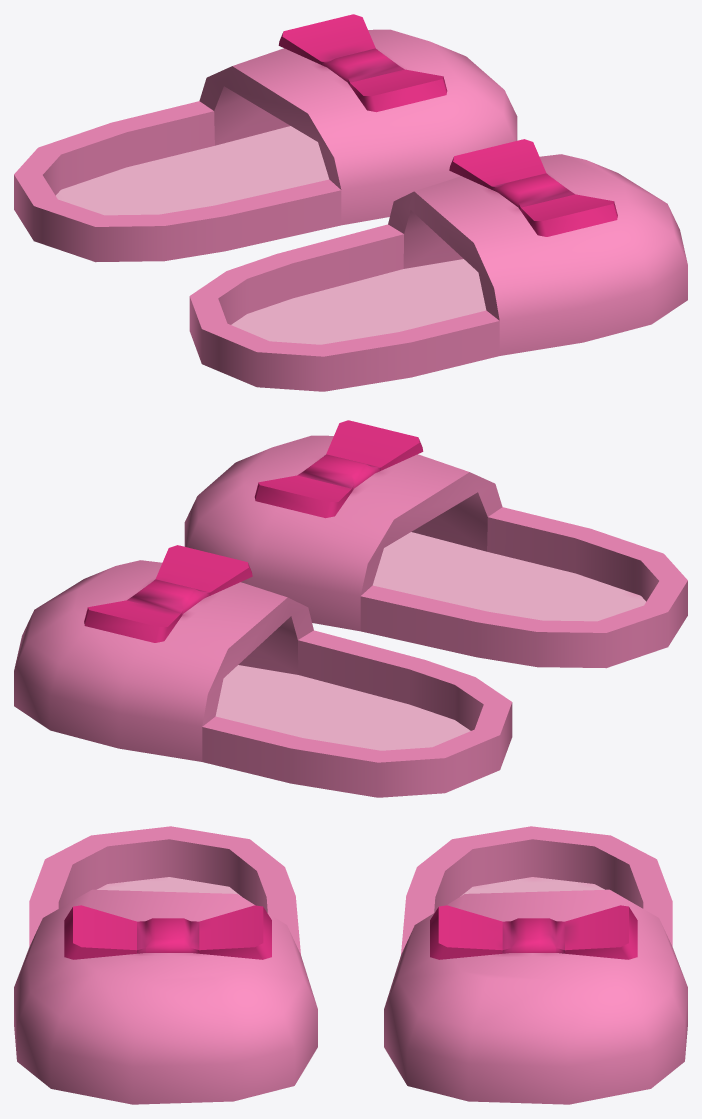
Rendered from Prop_078_Slippers_001.fbx.
The picture shows the model from 3 angles, top to bottom: view 1: azimuth 30°, elevation 25°; view 2: azimuth 150°, elevation 25°; view 3: azimuth 270°, elevation 25°; orthographic projection. The views are drawn at different scales.
Visible parts, largest first — view 1: Prop_078_Slippers_001; view 2: Prop_078_Slippers_001; view 3: Prop_078_Slippers_001.
Boxes of the visible parts, bbox=[...] form: Prop_078_Slippers_001: bbox=[14, 14, 687, 391]; Prop_078_Slippers_001: bbox=[14, 420, 687, 797]; Prop_078_Slippers_001: bbox=[14, 826, 687, 1104].
Bounding box in the file's own units: 0.2667 × 0.0578 × 0.3156.
Materials: 1 (1 with a texture image).
